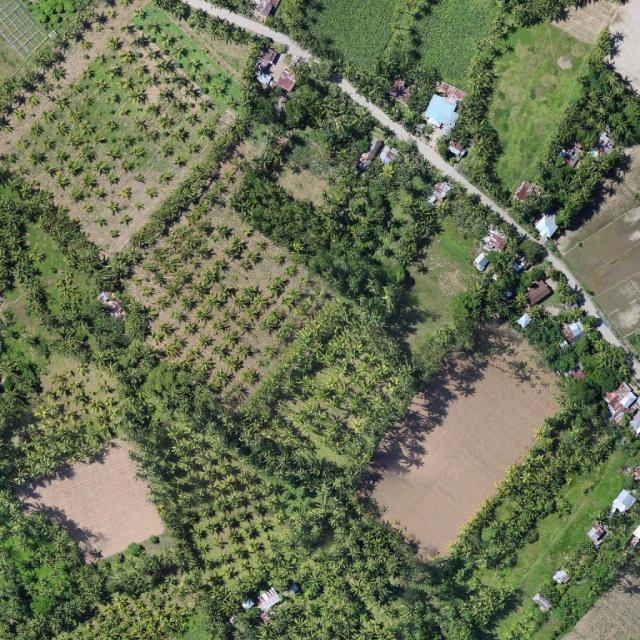greenland: (452, 10, 593, 195)
unmetalled_road: (336, 76, 417, 148), (414, 139, 477, 198), (476, 190, 508, 217)
